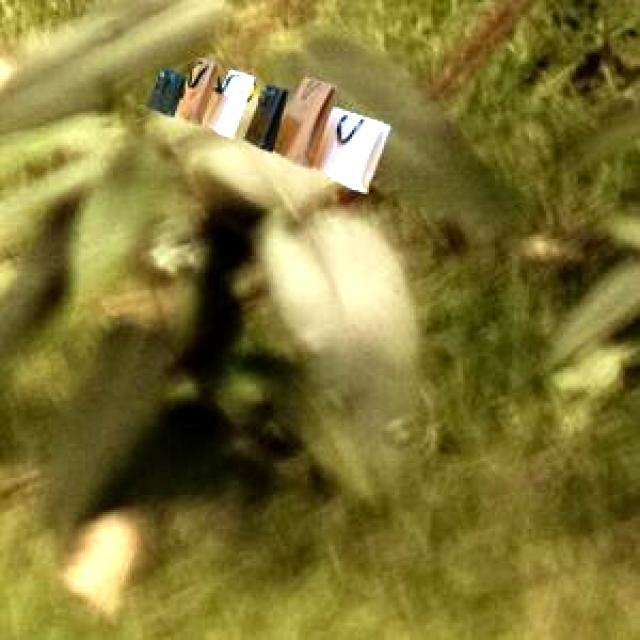Paper_Bag: (145, 56, 386, 189)
